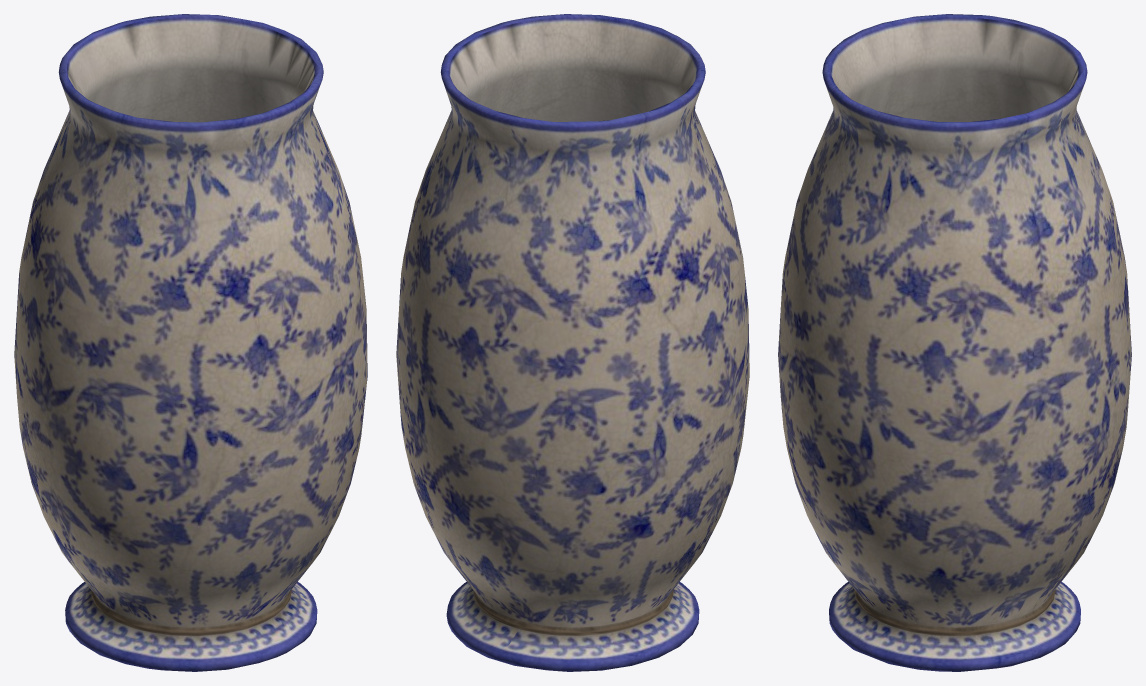
Rendered from antique_ceramic_vase.fbx.
3 renders of one model, left to right at view 1: azimuth 30°, elevation 25°; view 2: azimuth 150°, elevation 25°; view 3: azimuth 270°, elevation 25°, orthographic.
Parts seen in each view (by area): view 1: antique_ceramic_vase_01; view 2: antique_ceramic_vase_01; view 3: antique_ceramic_vase_01.
Boxes of the visible parts, left/top/right/bottom form: antique_ceramic_vase_01: left=14, top=14, right=367, bottom=671; antique_ceramic_vase_01: left=396, top=14, right=749, bottom=671; antique_ceramic_vase_01: left=778, top=14, right=1131, bottom=671.
Bounding box in the file's own units: 25.57 × 43.98 × 25.57.
